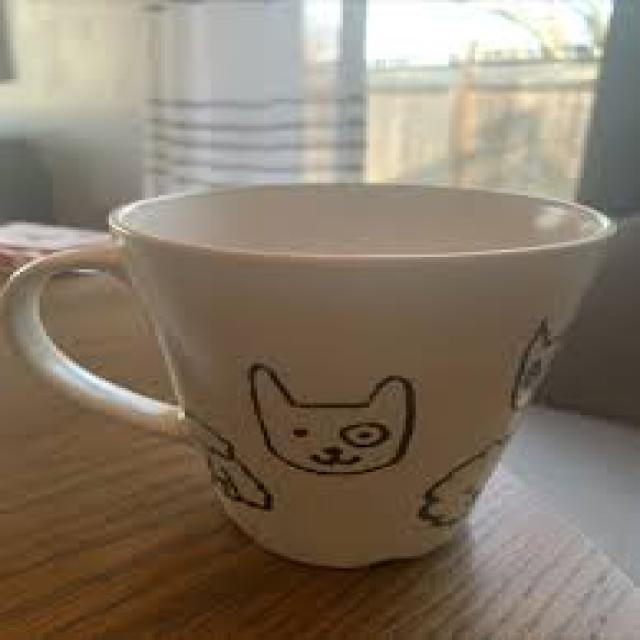taza: (0, 179, 621, 570)
